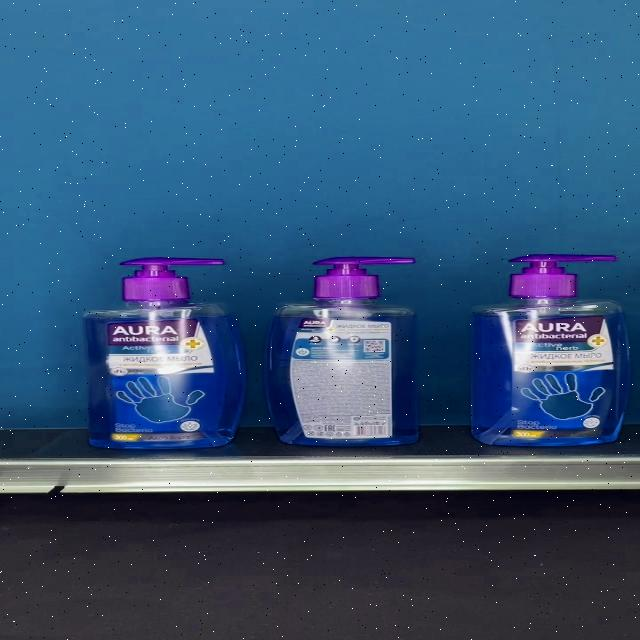Bottle: (85, 257, 246, 449), (470, 254, 630, 446), (265, 258, 419, 447)
Cap: (508, 254, 618, 297), (121, 258, 224, 300), (313, 258, 416, 300)
